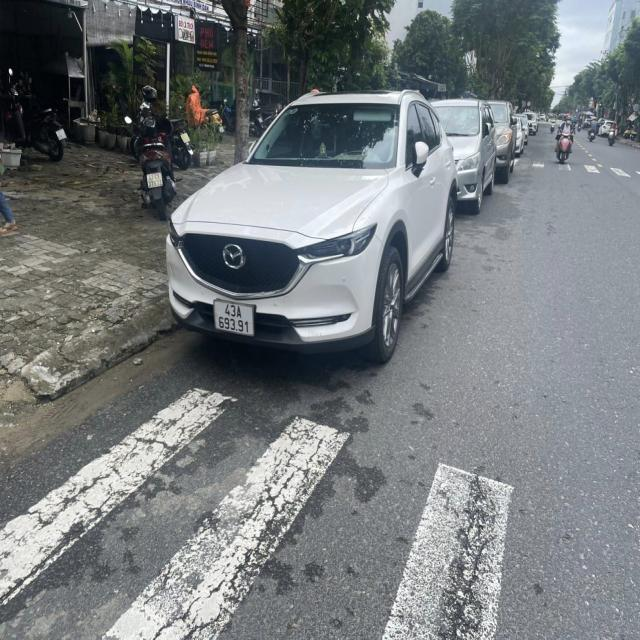car: (167, 83, 475, 366)
motorcycle: (124, 105, 177, 224), (553, 130, 575, 164), (602, 125, 619, 146)
plate: (208, 295, 258, 340), (142, 170, 167, 191)
